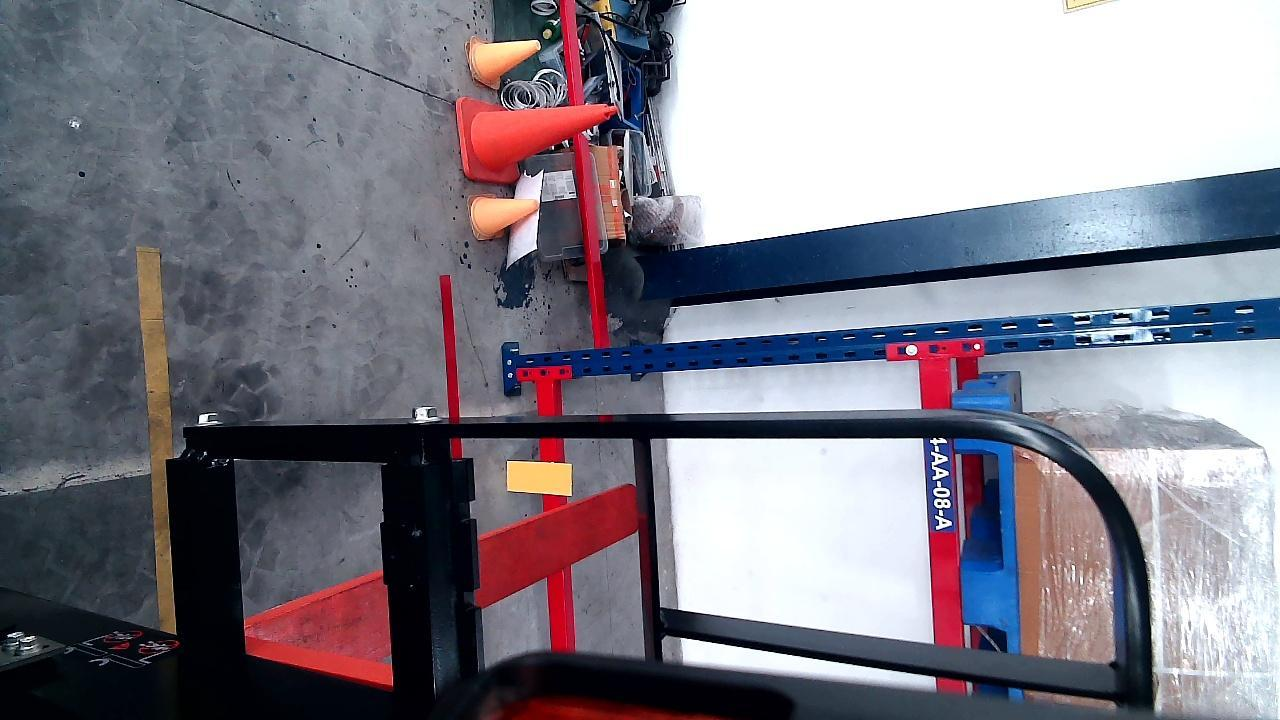red_line: (440, 272, 461, 463)
yellow_line: (141, 245, 175, 634)
